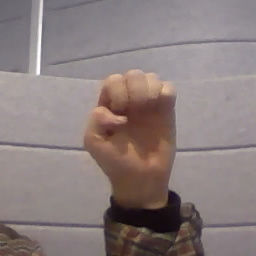E: (81, 68, 180, 185)
